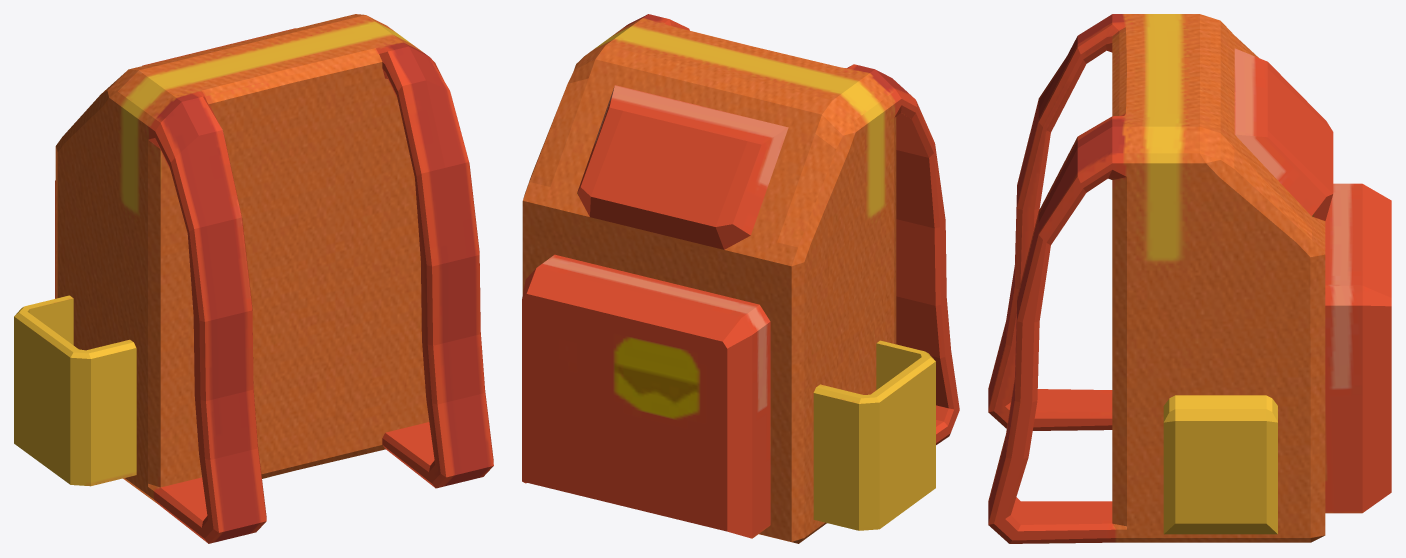
File: BagClosed.fbx
3 renders of one model, left to right at view 1: azimuth 30°, elevation 25°; view 2: azimuth 150°, elevation 25°; view 3: azimuth 270°, elevation 25°, orthographic.
Visible parts, largest first — view 1: backpack shield; view 2: backpack shield; view 3: backpack shield.
Boxes of the visible parts, left/top/right/bottom form: backpack shield: left=14, top=14, right=493, bottom=543; backpack shield: left=522, top=14, right=959, bottom=543; backpack shield: left=988, top=14, right=1391, bottom=543.
Bounding box in the file's own units: 915 × 962 × 867.
